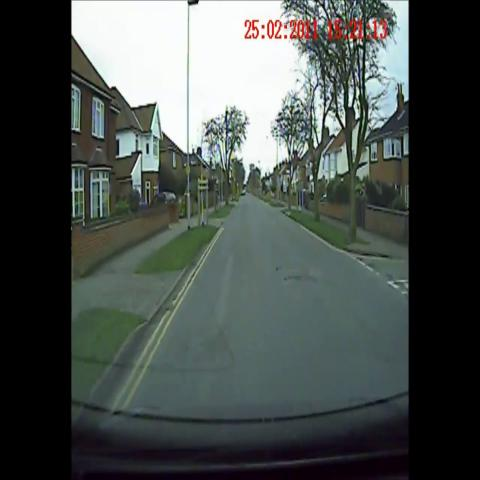pothole: (279, 268, 324, 296)
